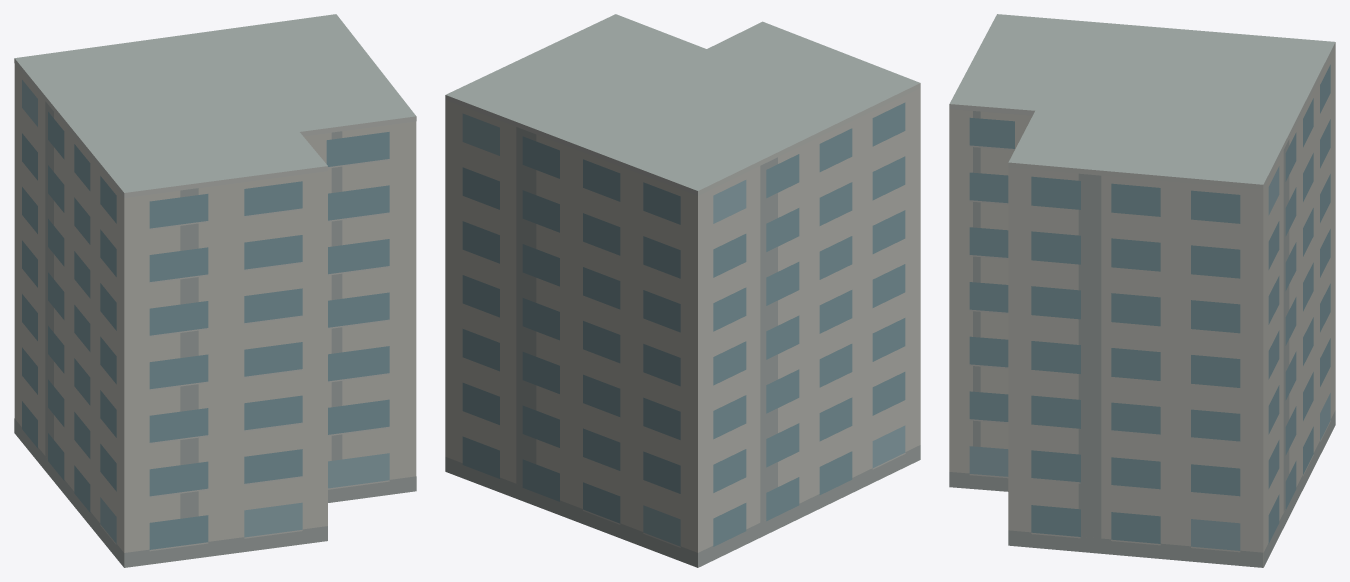
The model's file is survey-upis-32536101.glb.
3 renders of one model, left to right at view 1: azimuth 30°, elevation 25°; view 2: azimuth 150°, elevation 25°; view 3: azimuth 270°, elevation 25°, orthographic. The views are drawn at different scales.
Parts seen in each view (by area): view 1: survey-upis-32536101.tmp; view 2: survey-upis-32536101.tmp; view 3: survey-upis-32536101.tmp.
Part boxes in pixels (bbox=[...]): survey-upis-32536101.tmp: bbox=[14, 14, 416, 567]; survey-upis-32536101.tmp: bbox=[445, 14, 920, 567]; survey-upis-32536101.tmp: bbox=[949, 14, 1335, 567].
Bounding box in the file's own units: 17.69 × 18.5 × 16.91.
